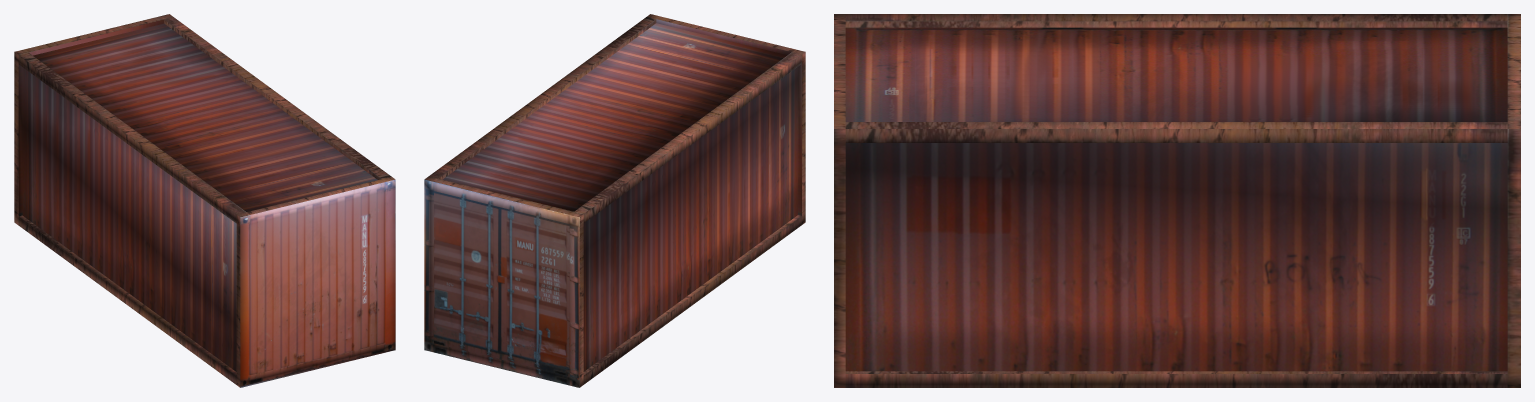
File: container.fbx
3 views of the same model, side by side, from view 1: azimuth 30°, elevation 25°; view 2: azimuth 150°, elevation 25°; view 3: azimuth 270°, elevation 25° (orthographic). The views are drawn at different scales.
Visible parts, largest first — view 1: Cube; view 2: Cube; view 3: Cube.
Boxes of the visible parts, bbox=[...] form: Cube: bbox=[14, 14, 395, 387]; Cube: bbox=[424, 14, 805, 387]; Cube: bbox=[834, 14, 1520, 387].
Size of the model in its own units: 1.38 by 1.45 by 3.48.
